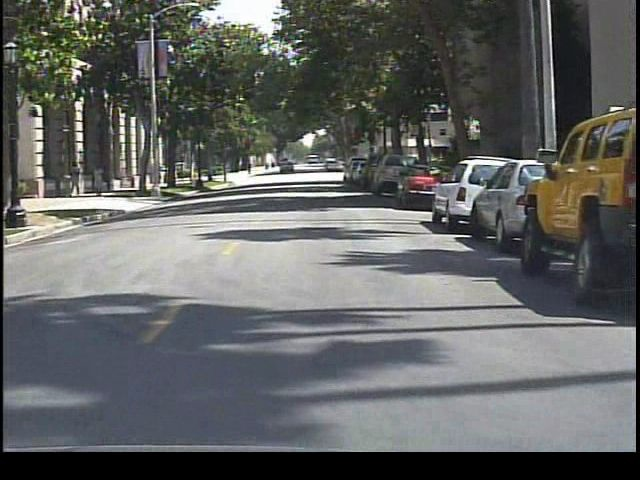person: (90, 160, 113, 199), (67, 159, 87, 200)
